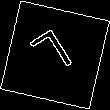L_SE: (28, 25, 82, 85)
